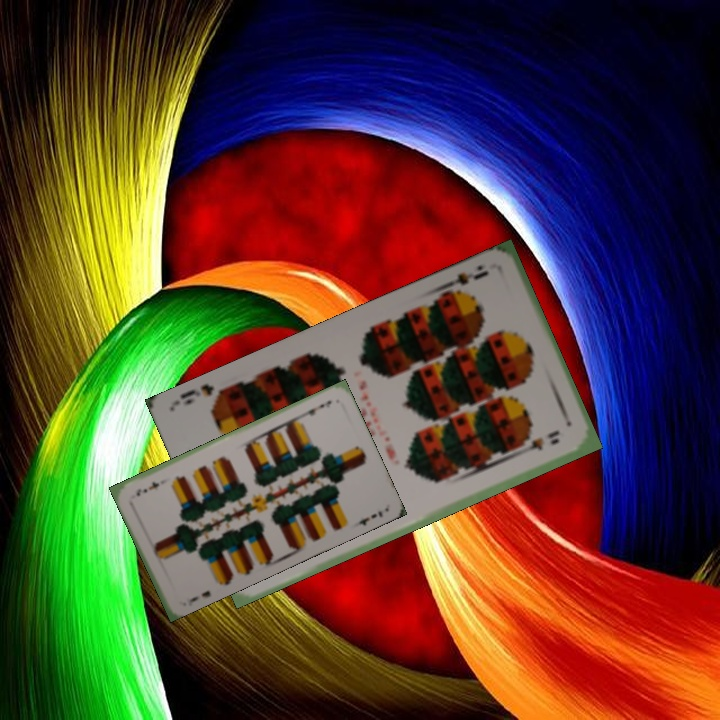E7: (298, 396, 334, 420), (184, 587, 213, 607)
S9: (438, 266, 492, 300)
